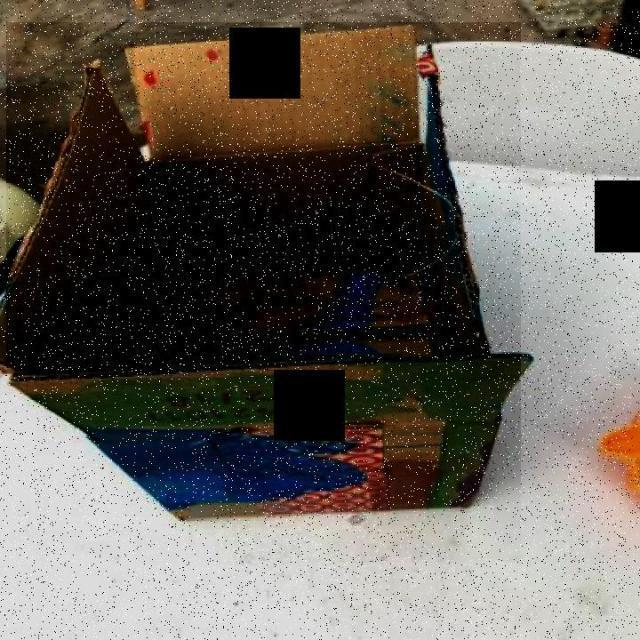box: (6, 22, 522, 563)
